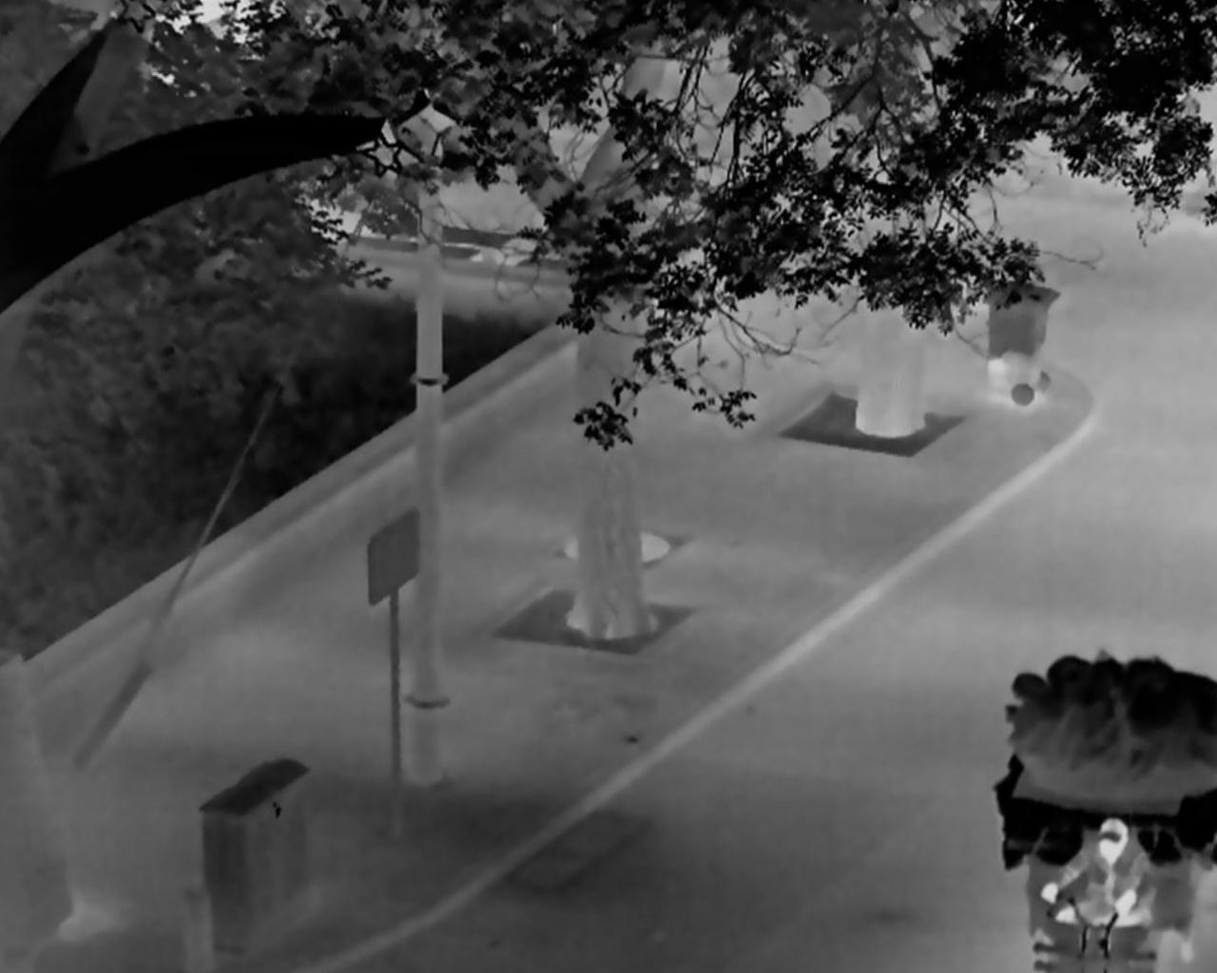person: (1040, 816, 1156, 927)
